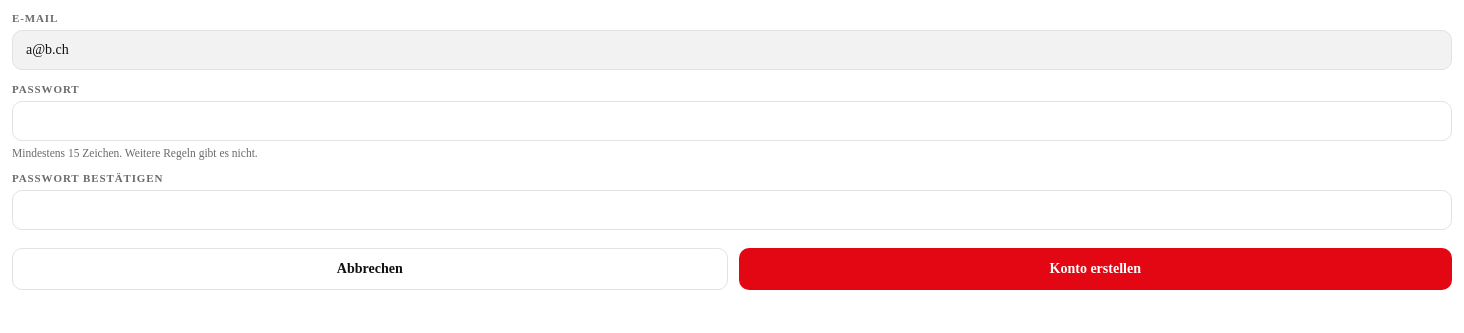
Test: SignUpForm › asks for a password when none is given
Click the button "Konto erstellen".
click(1095, 269)  # box [738,248,1452,290]
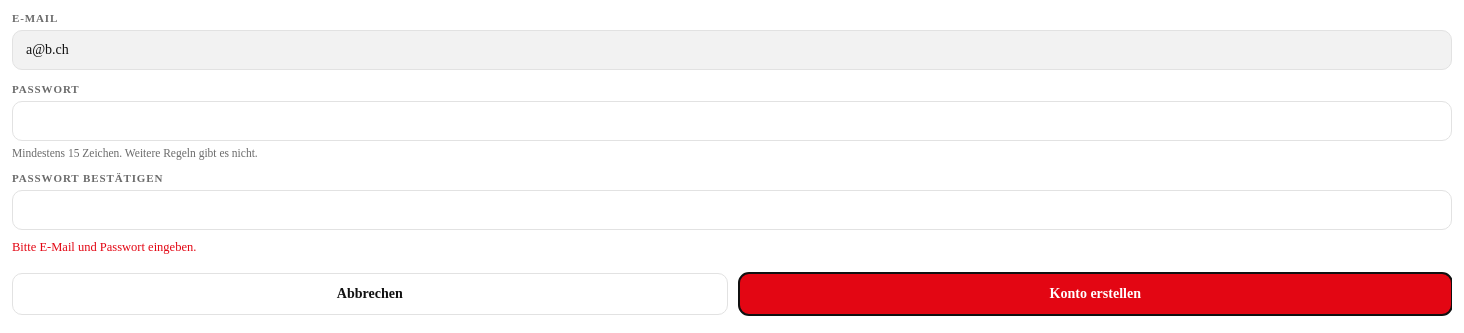
Expected: the message reads "Bitte E-Mail und Passwort eingeben.", [12,240,196,254]
